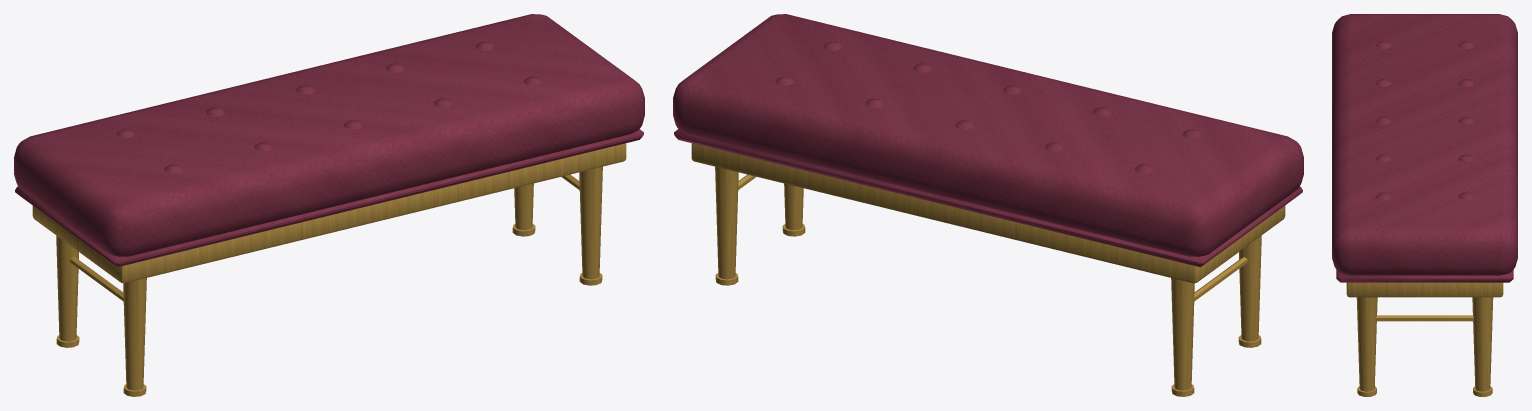
File: banco-estofado-13.glb
The picture shows the model from 3 angles, left to right: view 1: azimuth 30°, elevation 25°; view 2: azimuth 150°, elevation 25°; view 3: azimuth 270°, elevation 25°; orthographic projection. The views are drawn at different scales.
Parts seen in each view (by area): view 1: almofada, quadro, vivo, perna, perna.002, perna.001, perna.003; view 2: almofada, quadro, vivo, perna.001, perna.003, perna, perna.002; view 3: almofada, quadro, perna.002, perna.003, vivo, longarina.001.
Part boxes in pixels (<box>): almofada: <box>14,14,644,256</box>; quadro: <box>32,143,626,283</box>; vivo: <box>15,129,643,267</box>; perna: <box>123,278,146,390</box>; perna.002: <box>579,166,602,279</box>; perna.001: <box>56,235,78,341</box>; perna.003: <box>514,183,533,230</box>; almofada: <box>673,14,1303,256</box>; quadro: <box>691,143,1285,283</box>; vivo: <box>674,129,1302,267</box>; perna.001: <box>1171,278,1194,390</box>; perna.003: <box>715,166,738,279</box>; perna: <box>1239,235,1261,341</box>; perna.002: <box>784,183,803,230</box>; almofada: <box>1332,14,1517,275</box>; quadro: <box>1346,282,1503,297</box>; perna.002: <box>1356,297,1377,391</box>; perna.003: <box>1472,297,1493,391</box>; vivo: <box>1336,270,1513,282</box>; longarina.001: <box>1376,315,1473,321</box>.
Size of the model in its own units: 1.3 by 0.4779 by 0.45.
2 materials, 2 textured.
